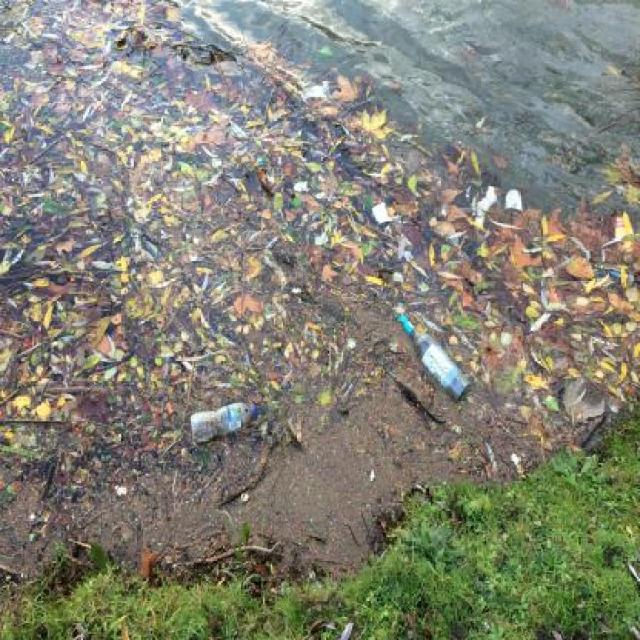glass: (396, 312, 472, 403)
plastic: (190, 402, 258, 443)
